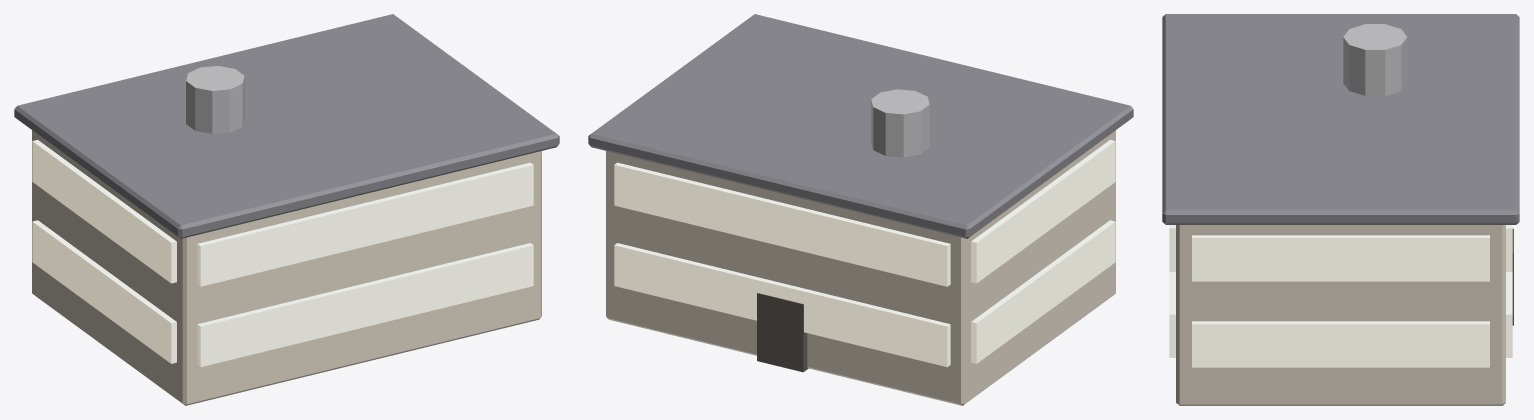
The model's file is bld_3_0.glb.
The picture shows the model from 3 angles, left to right: view 1: azimuth 30°, elevation 25°; view 2: azimuth 150°, elevation 25°; view 3: azimuth 270°, elevation 25°; orthographic projection. The views are drawn at different scales.
Visible parts, largest first — view 1: rf, w, bz2.001, bz2, bx2, bx2.001, tank; view 2: rf, w, bz1.001, bz1, bx2, bx2.001, tank, door; view 3: rf, w, bx1, bx1.001, tank, bz1, bz2, bz1.001, bz2.001.
Boxes of the visible parts, x1,y1,x2,y2 form: rf: (14, 14, 559, 238); w: (32, 130, 541, 405); bz2.001: (197, 162, 533, 286); bz2: (197, 243, 533, 367); bx2: (32, 220, 176, 363); bx2.001: (32, 140, 176, 283); tank: (186, 66, 244, 133); rf: (588, 14, 1133, 238); w: (606, 130, 1115, 405); bz1.001: (614, 162, 950, 286); bz1: (614, 243, 950, 367); bx2: (971, 220, 1115, 363); bx2.001: (971, 140, 1115, 283); tank: (871, 89, 929, 157); door: (757, 293, 808, 372); rf: (1162, 14, 1519, 224); w: (1176, 225, 1505, 405); bx1: (1192, 321, 1489, 367); bx1.001: (1192, 235, 1489, 281); tank: (1343, 24, 1407, 95); bz1: (1506, 272, 1512, 357); bz2: (1169, 272, 1175, 357); bz1.001: (1506, 225, 1512, 271); bz2.001: (1169, 225, 1175, 271).
Size of the model in its own units: 4.12 by 2.39 by 3.12.
